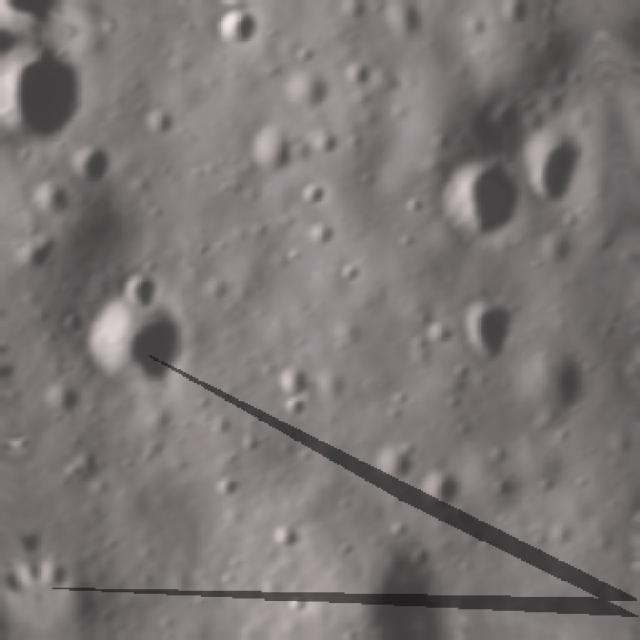crater: (72, 292, 196, 401), (332, 535, 452, 637), (0, 36, 94, 162), (424, 153, 531, 253), (506, 118, 596, 224), (511, 343, 602, 425), (450, 286, 533, 369), (242, 119, 306, 190), (63, 136, 123, 198), (279, 67, 339, 125), (410, 461, 468, 519), (369, 0, 432, 52), (26, 175, 82, 233), (57, 446, 114, 502), (206, 8, 269, 57), (364, 441, 422, 494), (12, 230, 65, 288), (263, 357, 319, 406), (116, 273, 170, 322), (484, 95, 534, 143), (272, 389, 325, 431), (262, 516, 308, 562), (293, 170, 336, 218), (298, 216, 342, 262), (337, 56, 380, 102), (42, 380, 84, 426), (421, 314, 462, 357), (143, 101, 180, 148), (492, 0, 538, 37), (329, 257, 369, 298), (303, 125, 343, 166), (32, 556, 70, 599), (209, 470, 249, 508), (456, 10, 495, 48), (286, 35, 320, 77), (282, 584, 316, 624), (491, 472, 522, 506), (398, 194, 428, 228), (393, 232, 418, 259), (202, 631, 236, 640)
